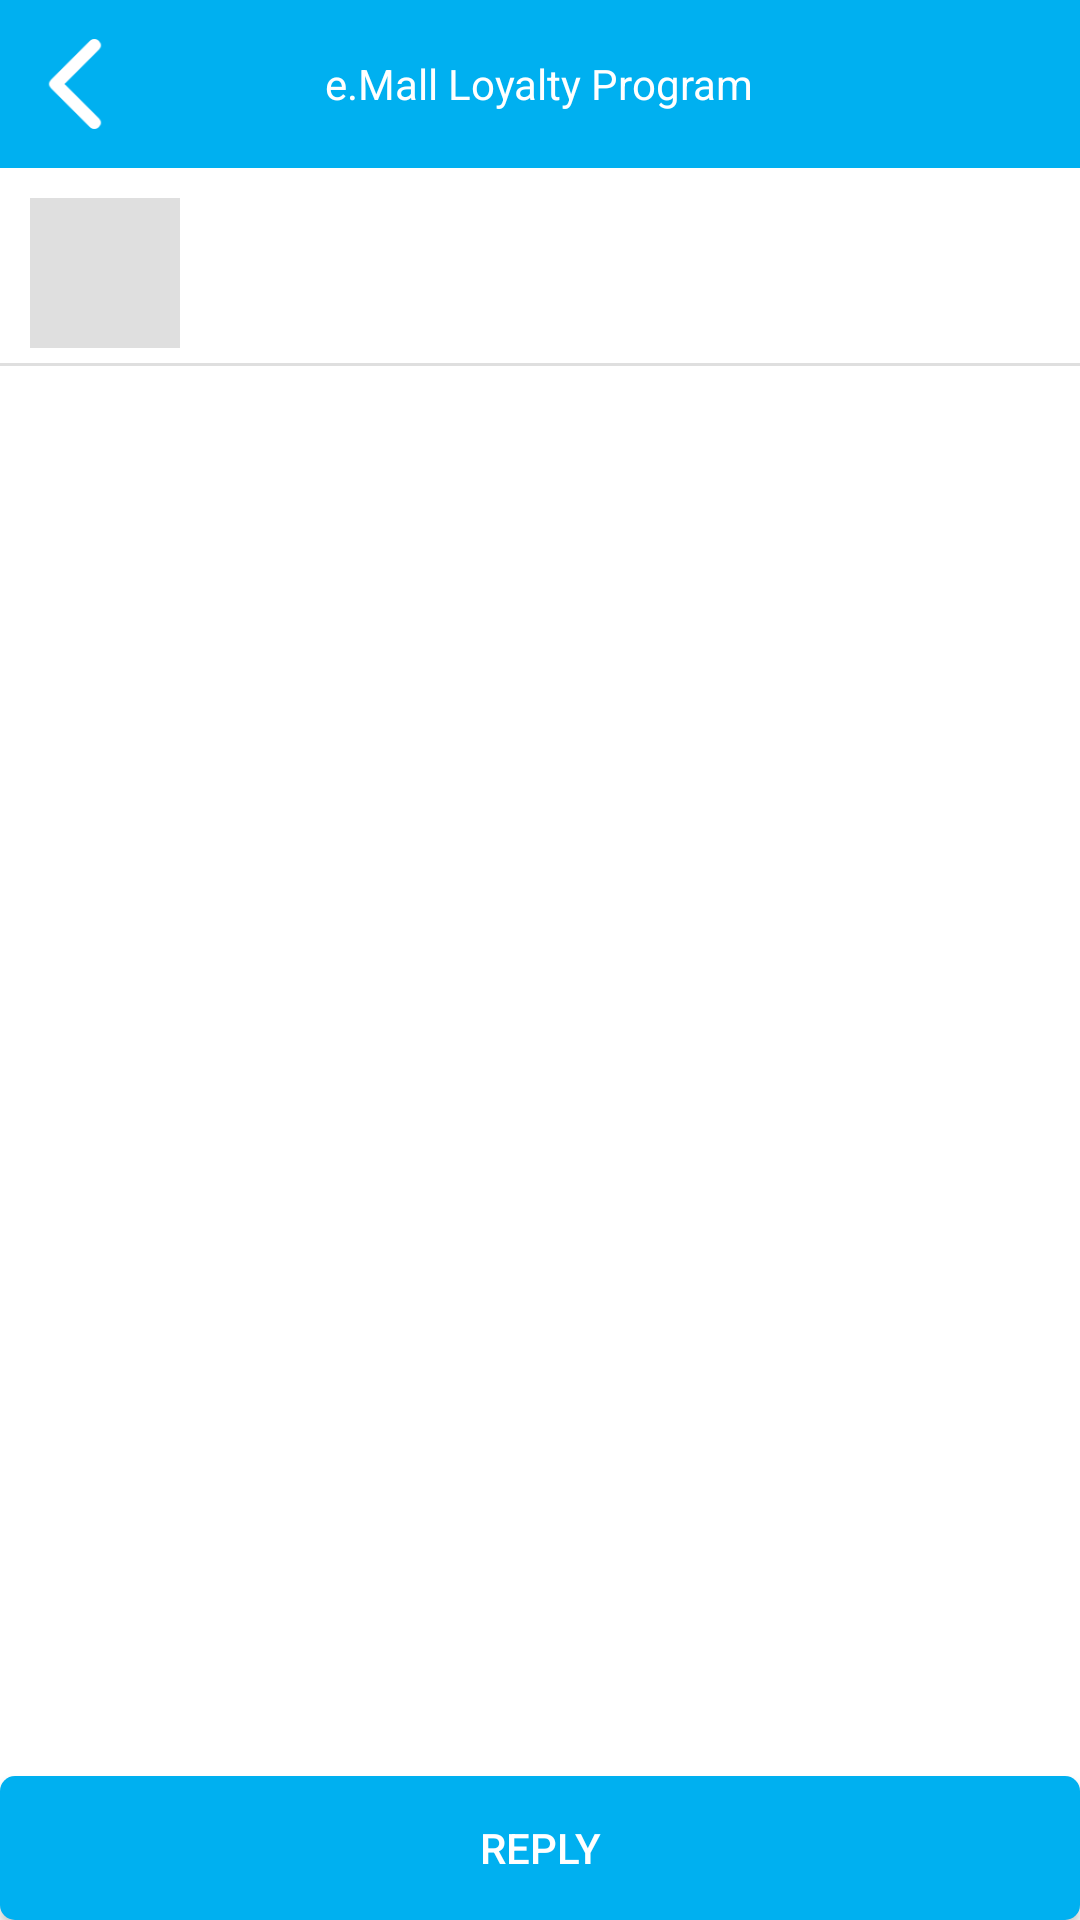

Screen size 1080w x 1920h. Icon name, then its box in pixels as (x1, y1, x2, y2):
back: (48, 39, 102, 129)
